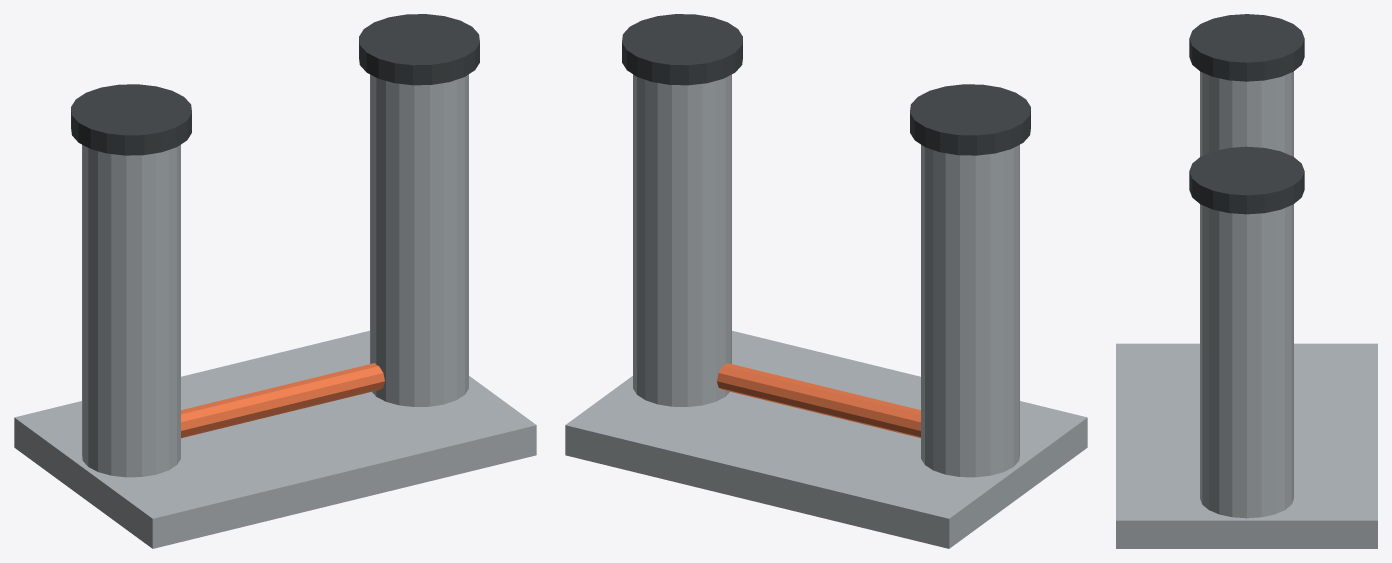
File: quick-lift-air-jack-rig.glb
3 views of the same model, side by side, from view 1: azimuth 30°, elevation 25°; view 2: azimuth 150°, elevation 25°; view 3: azimuth 270°, elevation 25° (orthographic). The views are drawn at different scales.
Parts seen in each view (by area): view 1: air-jack-rig; view 2: air-jack-rig; view 3: air-jack-rig.
Boxes of the visible parts, x1=… form: air-jack-rig: x1=14, y1=14, x2=536, y2=548; air-jack-rig: x1=565, y1=14, x2=1087, y2=548; air-jack-rig: x1=1116, y1=14, x2=1377, y2=548.
Bounding box in the file's own units: 0.82 × 0.75 × 0.5.
